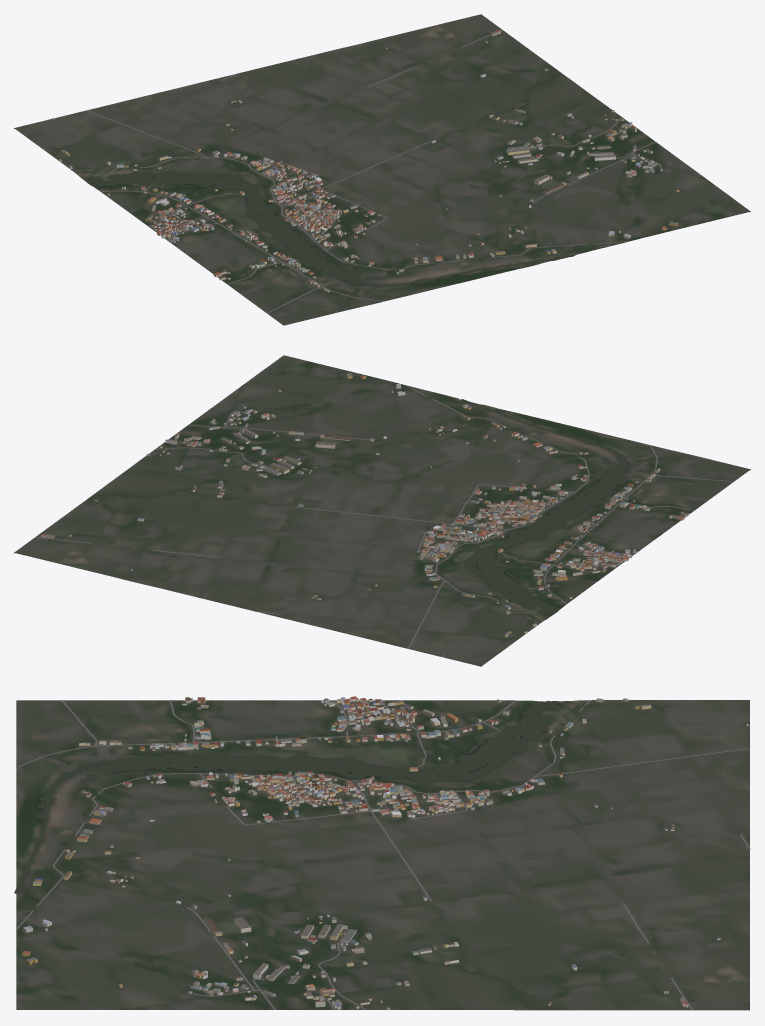
3 views of the same model, one above another, from view 1: azimuth 30°, elevation 25°; view 2: azimuth 150°, elevation 25°; view 3: azimuth 270°, elevation 25° (orthographic). The views are drawn at different scales.
Parts seen in each view (by area): view 1: ground, buildings, water, roads; view 2: ground, buildings, water, roads; view 3: ground, buildings, water, roads.
Boxes of the visible parts, x1,y1,x2,y2 form: ground: [14, 14, 750, 325]; buildings: [52, 30, 679, 292]; water: [81, 80, 573, 288]; roads: [73, 29, 661, 313]; ground: [14, 355, 750, 666]; buildings: [41, 373, 689, 656]; water: [119, 399, 630, 618]; roads: [35, 385, 733, 648]; ground: [16, 700, 749, 1010]; buildings: [22, 696, 748, 1010]; water: [14, 700, 568, 994]; roads: [15, 700, 750, 1010].
Bounding box in the file's own units: 1408 × 17.98 × 1408.
